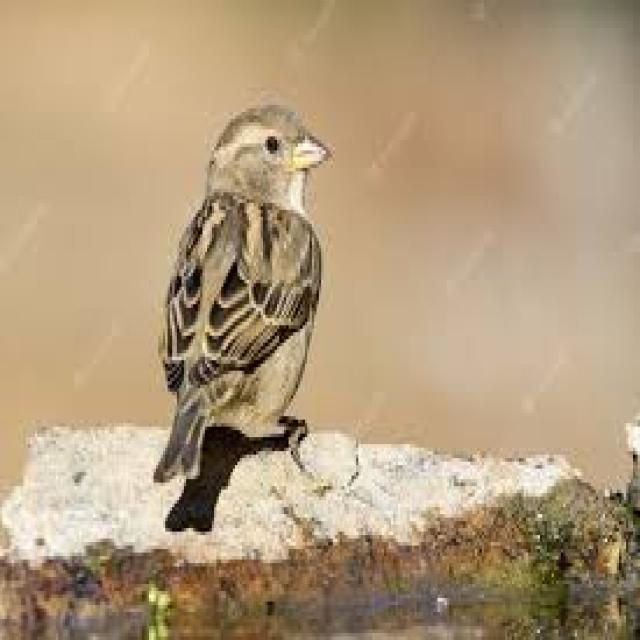bird: (149, 100, 330, 502)
